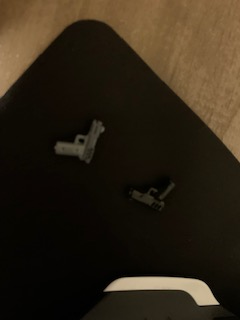pistol: (45, 115, 107, 168), (126, 171, 177, 213)
